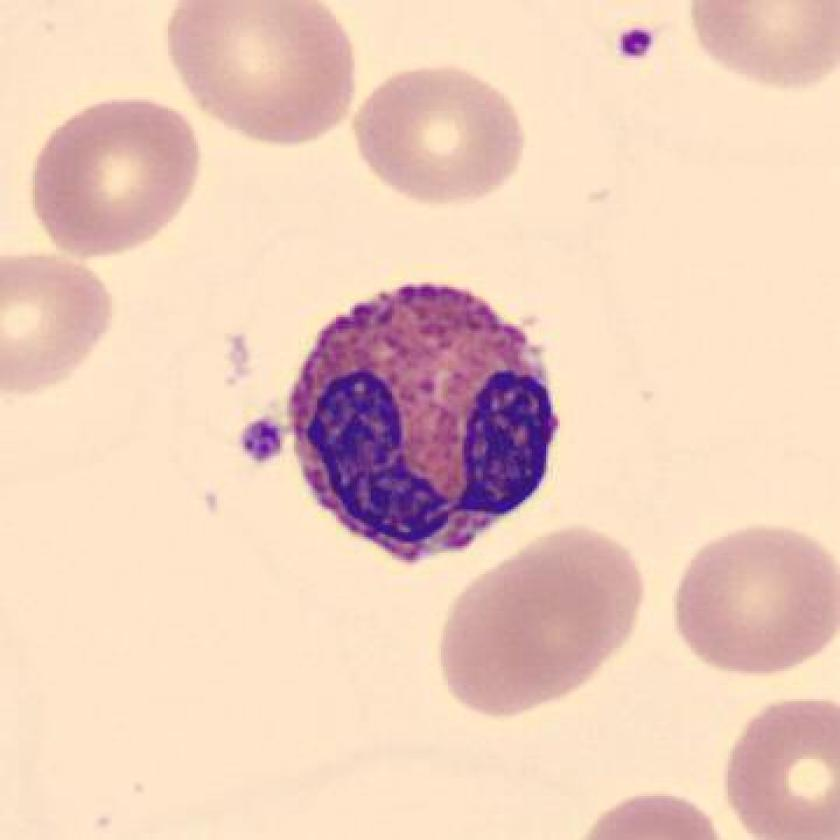eosinophil: (274, 265, 584, 579)
